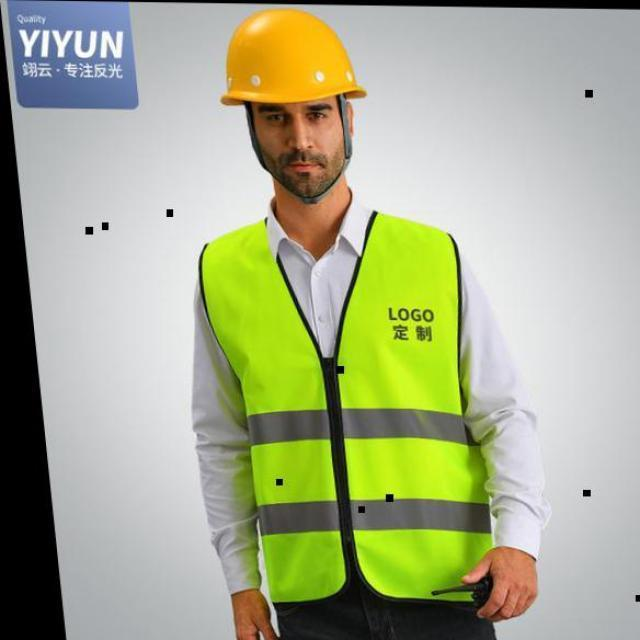safety_helmet: (198, 216, 506, 597)
